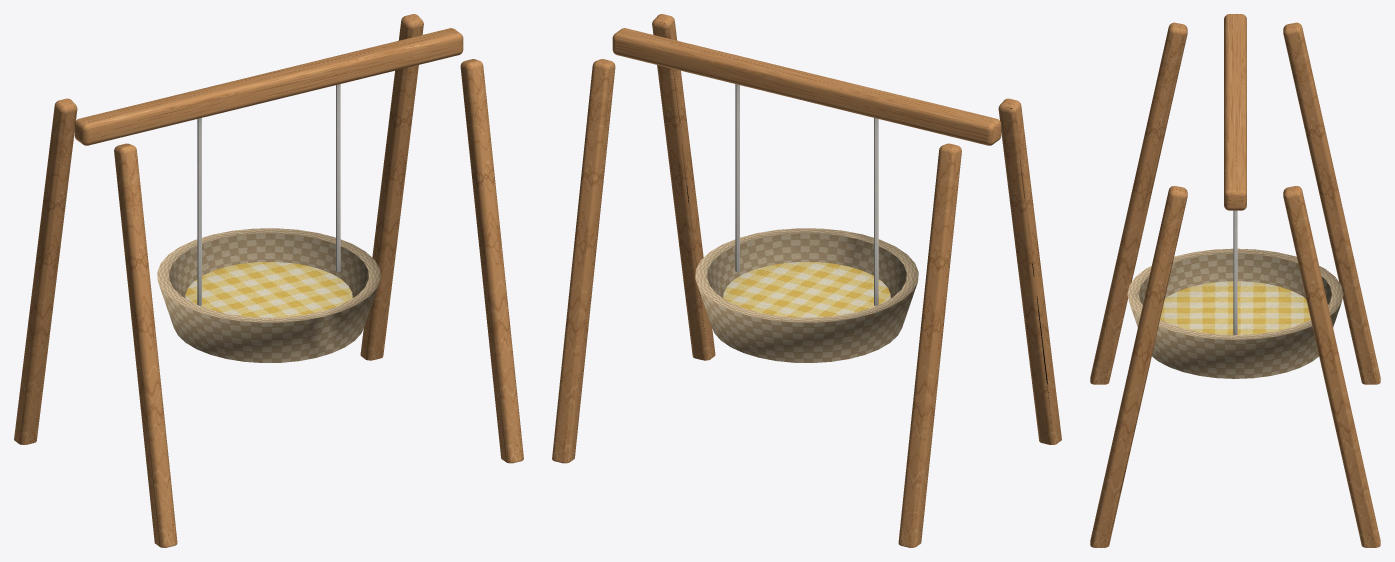
The model's file is swing_basket.glb.
3 renders of one model, left to right at view 1: azimuth 30°, elevation 25°; view 2: azimuth 150°, elevation 25°; view 3: azimuth 270°, elevation 25°, orthographic. The views are drawn at different scales.
Visible parts, largest first — view 1: swing_basket; view 2: swing_basket; view 3: swing_basket.
Boxes of the visible parts, x1=… form: swing_basket: x1=14, y1=14, x2=523, y2=547; swing_basket: x1=552, y1=14, x2=1061, y2=547; swing_basket: x1=1090, y1=14, x2=1380, y2=547.
Bounding box in the file's own units: 1.1 × 1.03 × 0.7522.
Materials: 1 (1 with a texture image).
